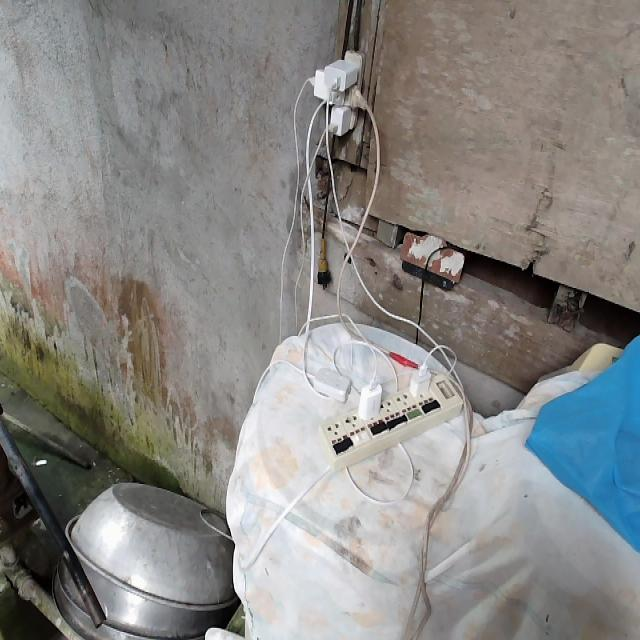-: (304, 46, 366, 134)
